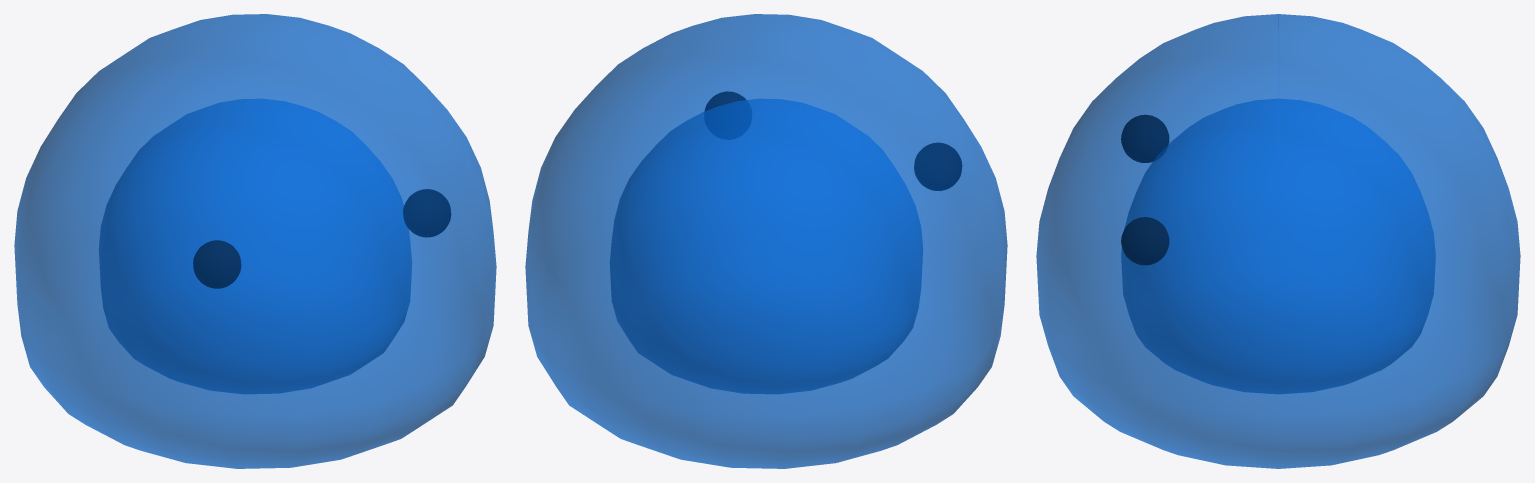
The model's file is Blue Slime.fbx.
3 views of the same model, side by side, from view 1: azimuth 30°, elevation 25°; view 2: azimuth 150°, elevation 25°; view 3: azimuth 270°, elevation 25° (orthographic).
Visible parts, largest first — view 1: Outside.001, Inside.001, Right_eye.001, Left_eye.001; view 2: Outside.001, Inside.001, Left_eye.001; view 3: Outside.001, Inside.001, Right_eye.001, Left_eye.001.
Boxes of the visible parts, x1,y1,x2,y2 form: Outside.001: [14, 14, 496, 468]; Inside.001: [99, 99, 411, 393]; Right_eye.001: [403, 189, 451, 237]; Left_eye.001: [193, 240, 241, 288]; Outside.001: [525, 14, 1007, 468]; Inside.001: [610, 99, 922, 393]; Left_eye.001: [914, 142, 962, 190]; Outside.001: [1036, 14, 1520, 468]; Inside.001: [1121, 99, 1435, 393]; Right_eye.001: [1121, 217, 1169, 265]; Left_eye.001: [1121, 114, 1169, 162].
Bounding box in the file's own units: 100 × 89.58 × 100.
